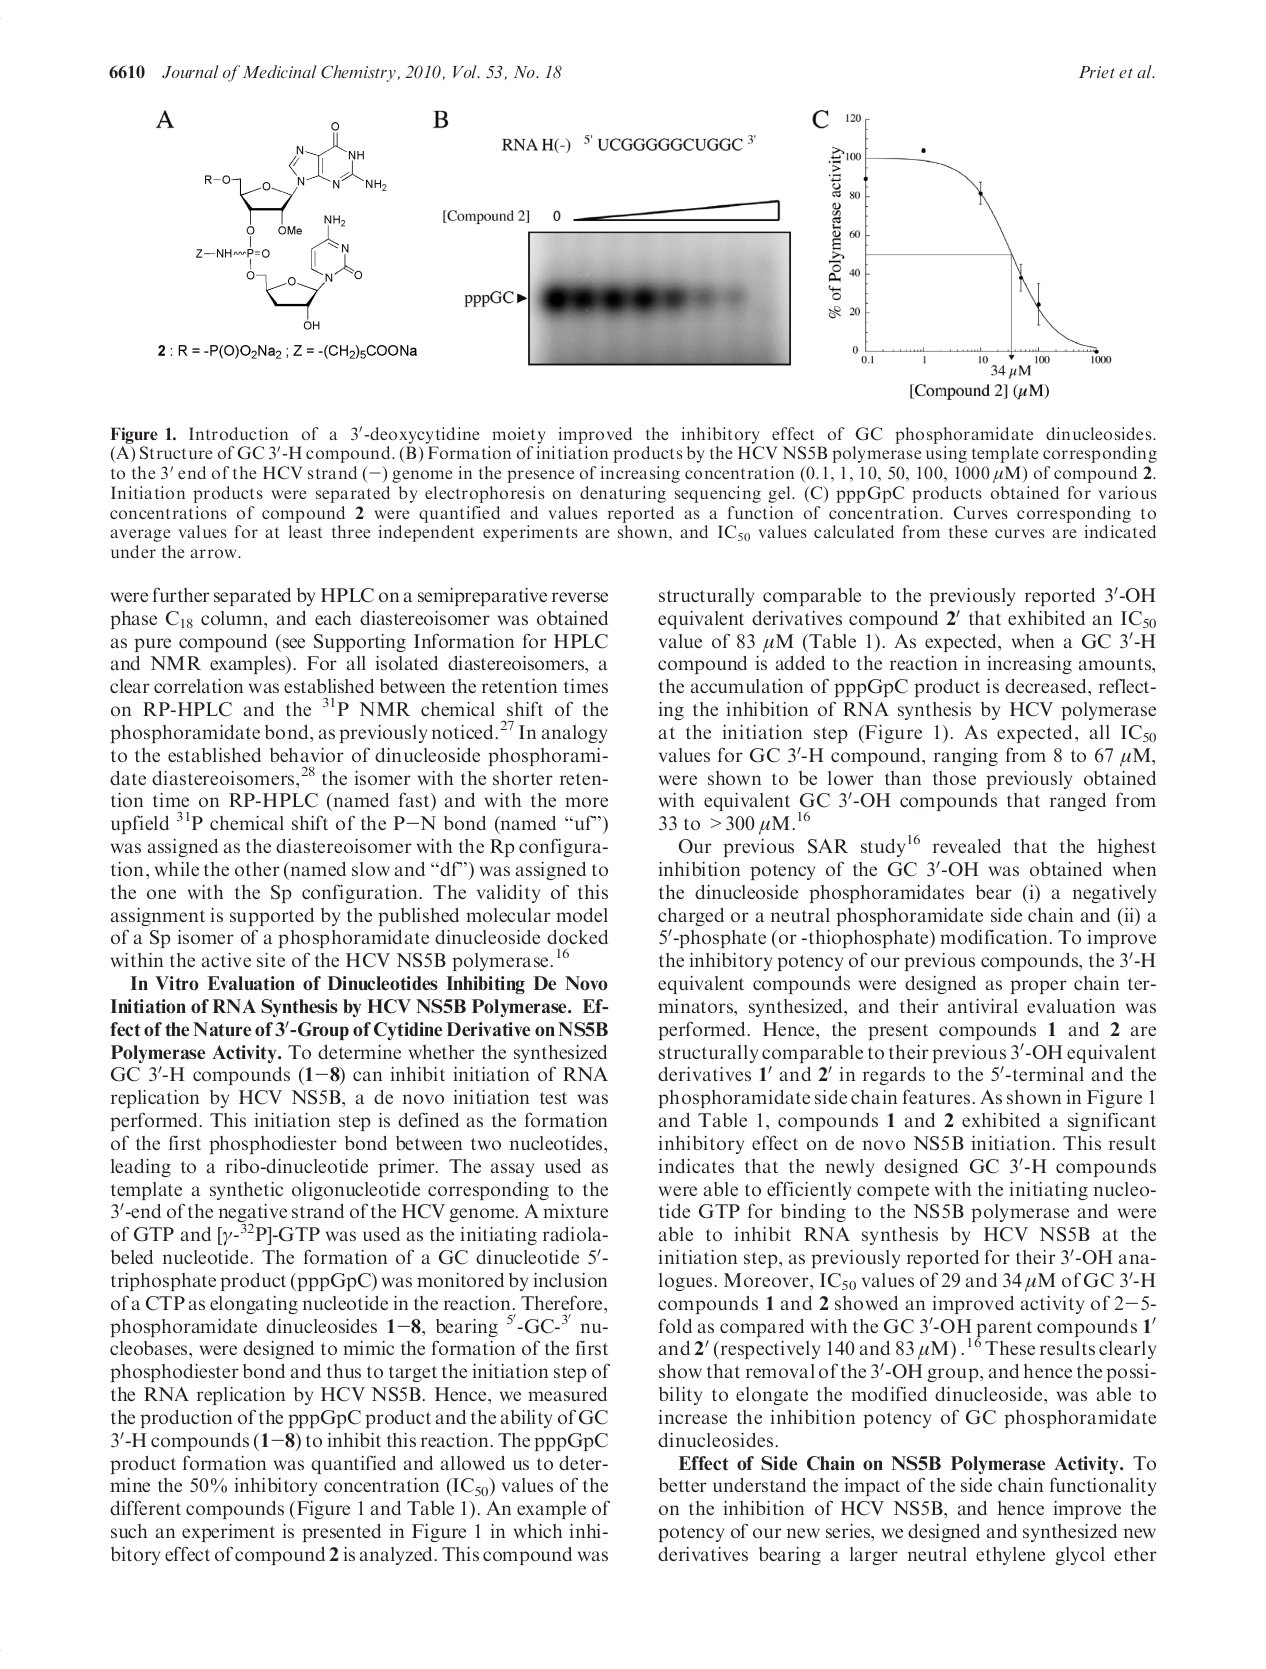exist_molecular: (194, 118, 399, 331)
